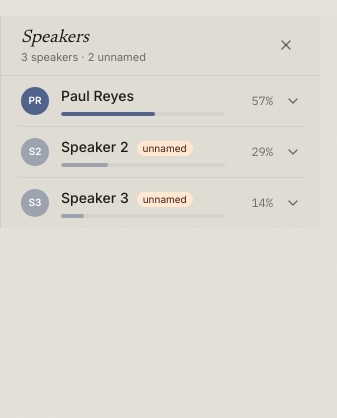
Test case: SpeakersSidebar › a row reopens on the turn it was left on
Click the button "S2 Speaker 2 unnamed 29%". click: (161, 152)
box: [21,126,301,176]
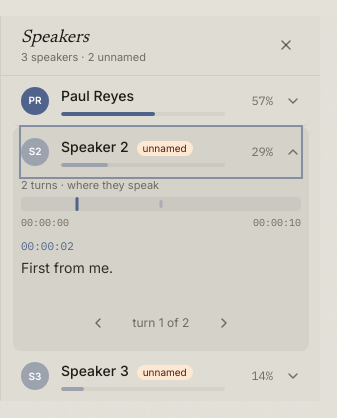
Click the button named "Next turn". click: (224, 323)
box: [209,308,239,338]
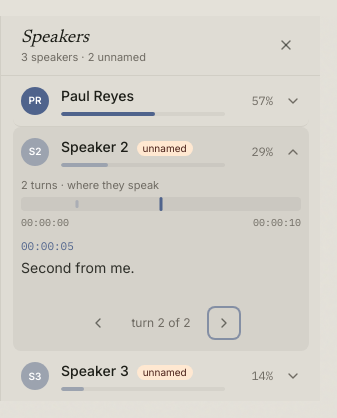
Click the button "PR Paul Reyes 57%". click: (97, 95)
box: [21,76,301,126]
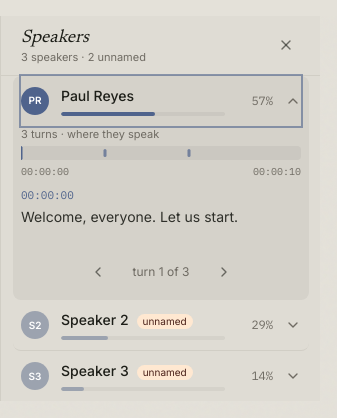
Check: the text "turn 1 of 3" is shown, box [132,264,189,279]
Click the button "S2 Speaker 2 unnamed 29%". click: (161, 325)
box: [21,300,301,350]
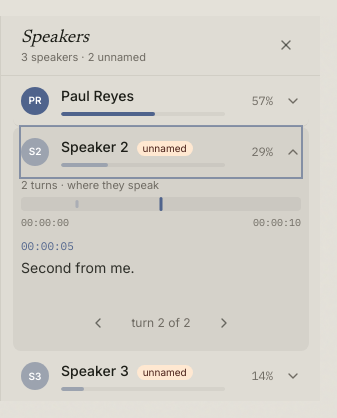
Check: the text "turn 2 of 2" is shown, box [131,315,191,330]
